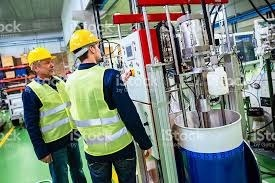helmet: (66, 27, 103, 54), (26, 47, 58, 66)
person with full safety: (64, 28, 137, 172), (20, 48, 77, 179)
safety vest: (67, 66, 135, 157), (28, 82, 71, 141)
